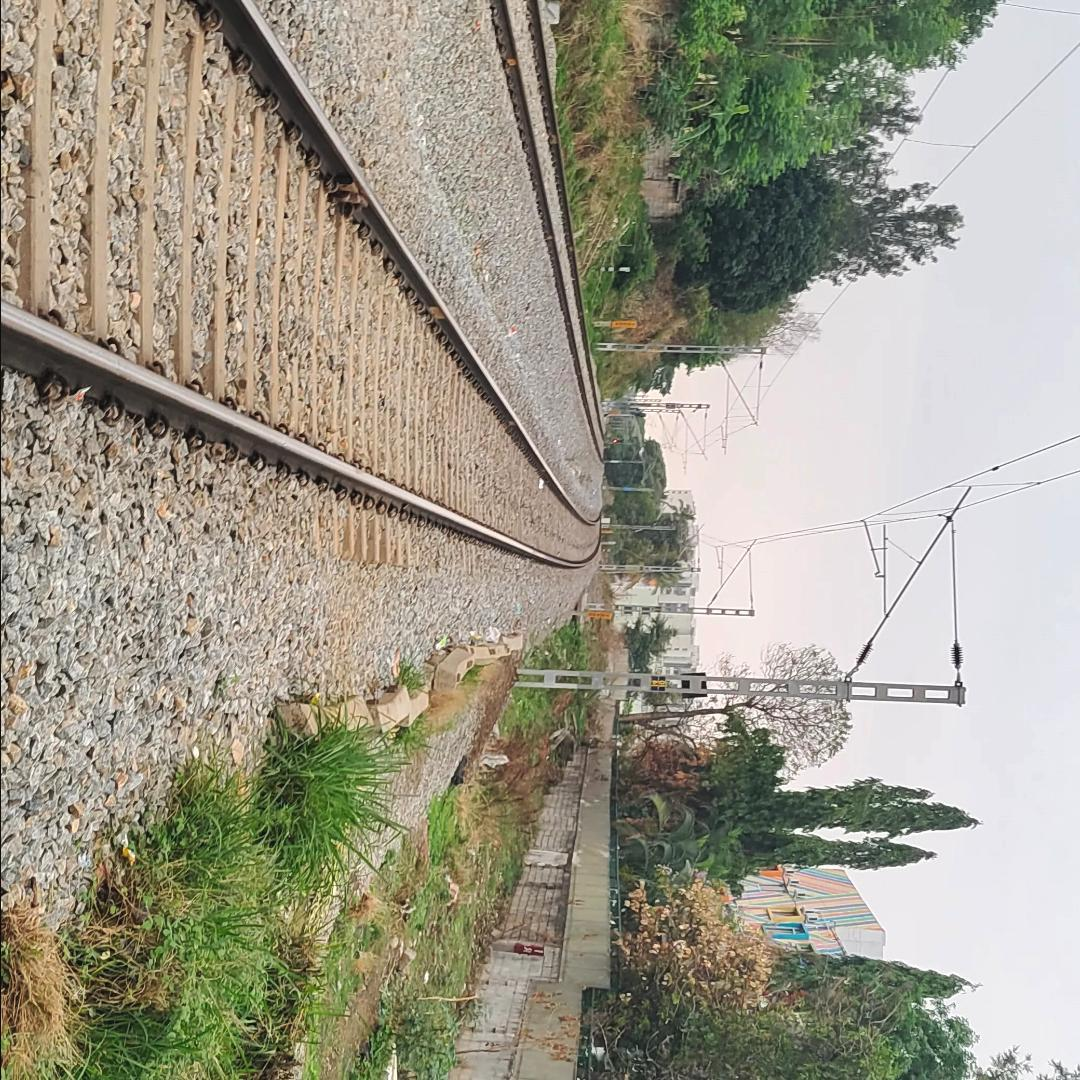track: (0, 0, 610, 581)
